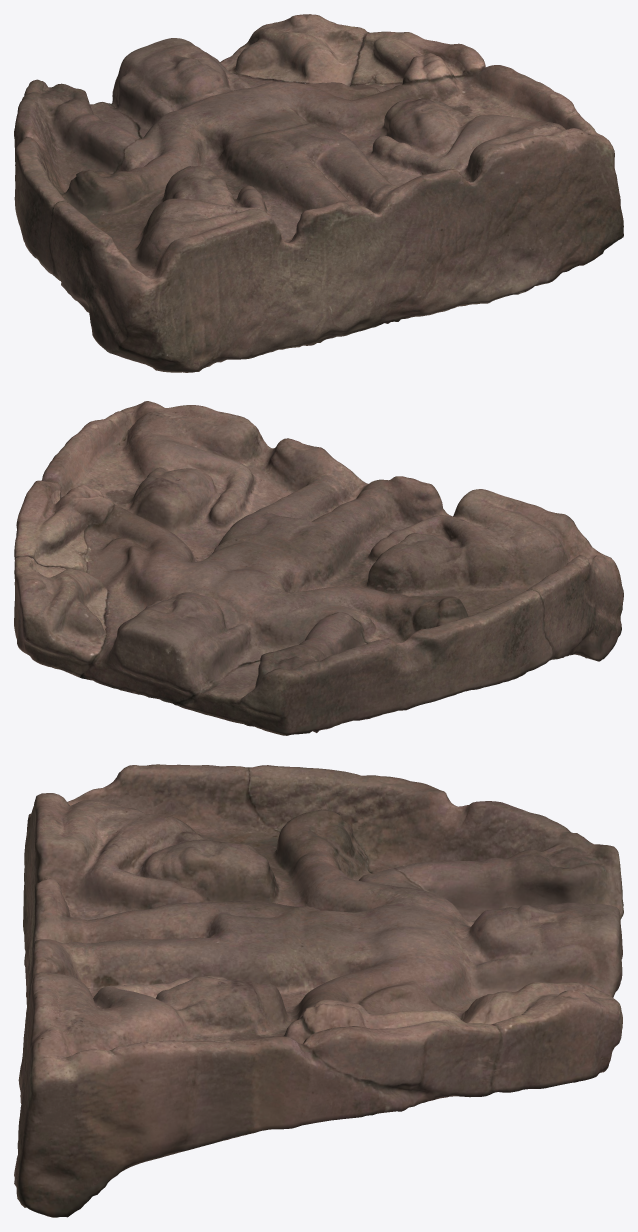
File: MysonMuseum_warehousephudieu3.glb
3 renders of one model, top to bottom at view 1: azimuth 30°, elevation 25°; view 2: azimuth 150°, elevation 25°; view 3: azimuth 270°, elevation 25°, orthographic. The views are drawn at different scales.
Visible parts, largest first — view 1: remesh.001; view 2: remesh.001; view 3: remesh.001.
Part boxes in pixels (x1,y1,x2,y2): remesh.001: (14,14,623,372); remesh.001: (14,401,623,735); remesh.001: (14,764,623,1217).
Size of the model in its own units: 0.6535 by 0.189 by 0.5171.
Materials: 1 (1 with a texture image).
